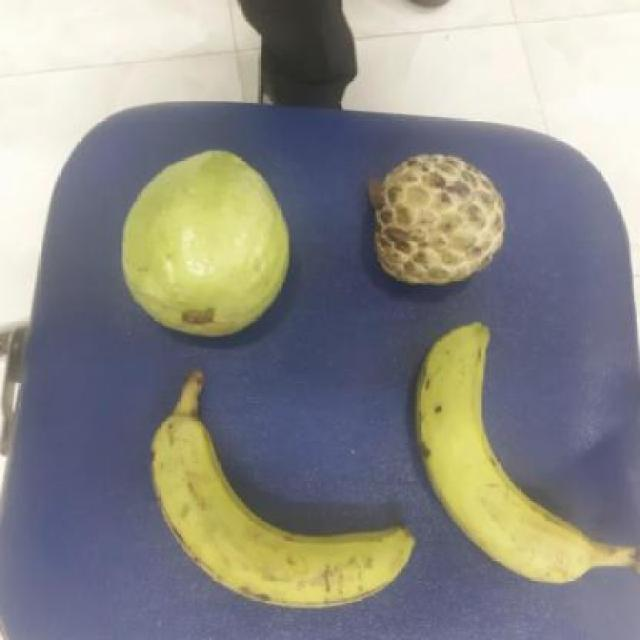banana: (138, 410, 417, 607), (407, 326, 601, 586)
guava: (110, 154, 287, 334)
sugar apple: (362, 150, 506, 284)
